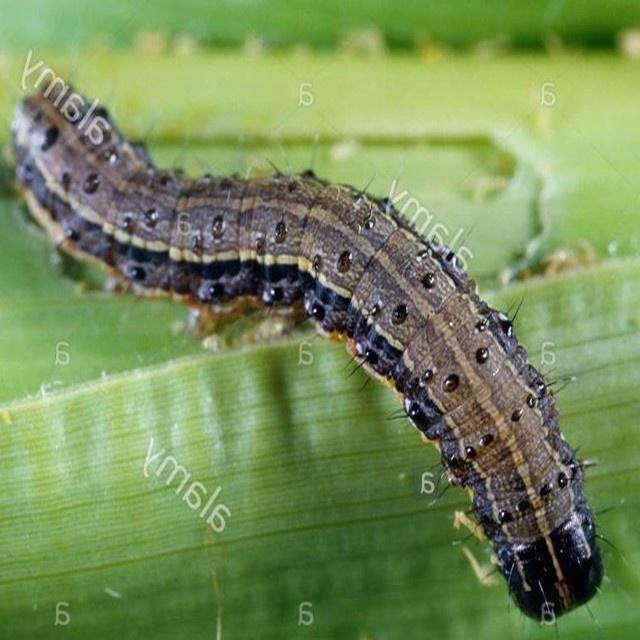Plaga: (8, 70, 617, 628)
